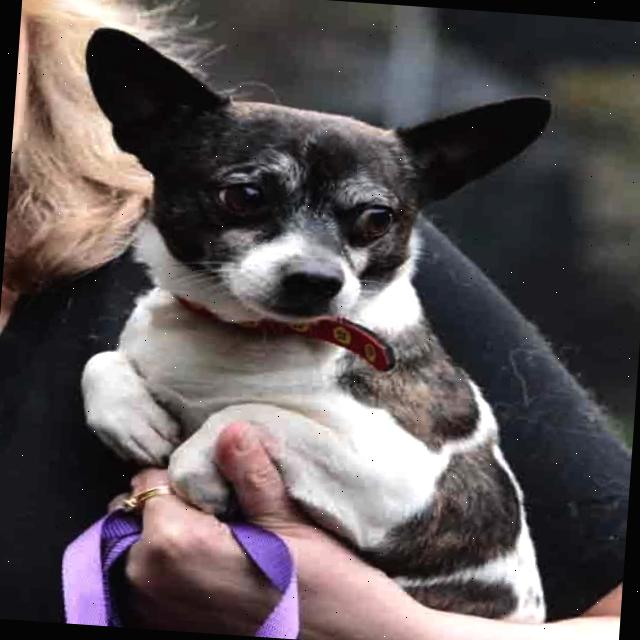chihuahua_dog: (54, 14, 574, 366)
